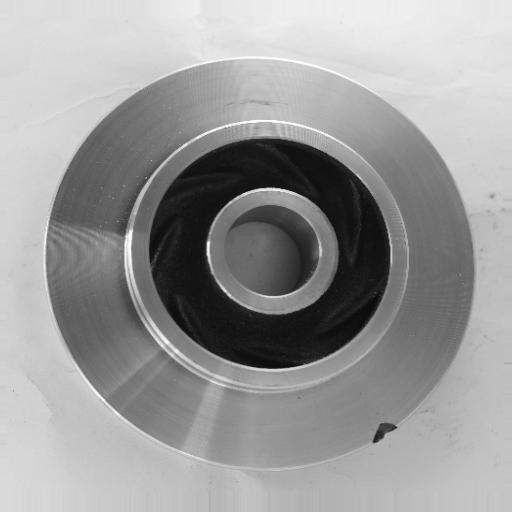crack: (365, 416, 407, 454)
unpolished_casting: (44, 56, 478, 474)
